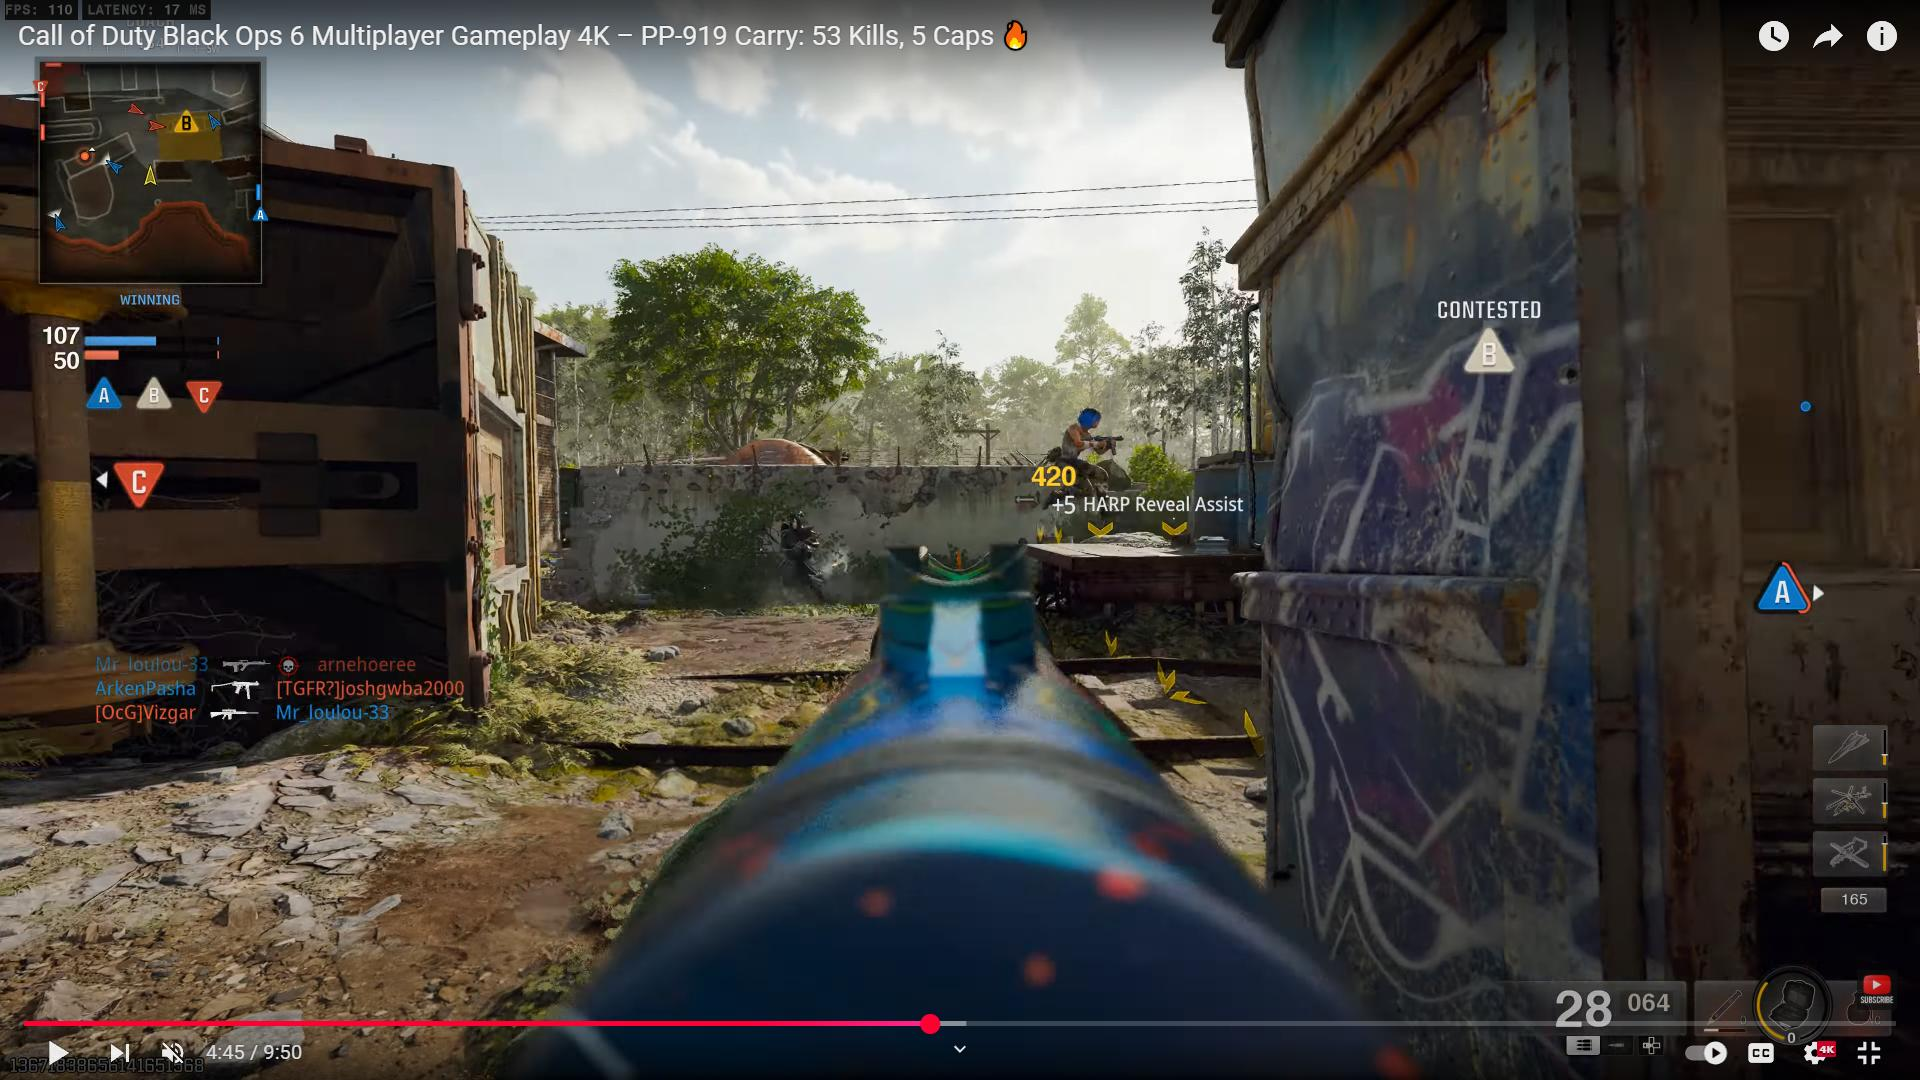Enemy: (1051, 400, 1116, 487), (778, 501, 822, 596)
